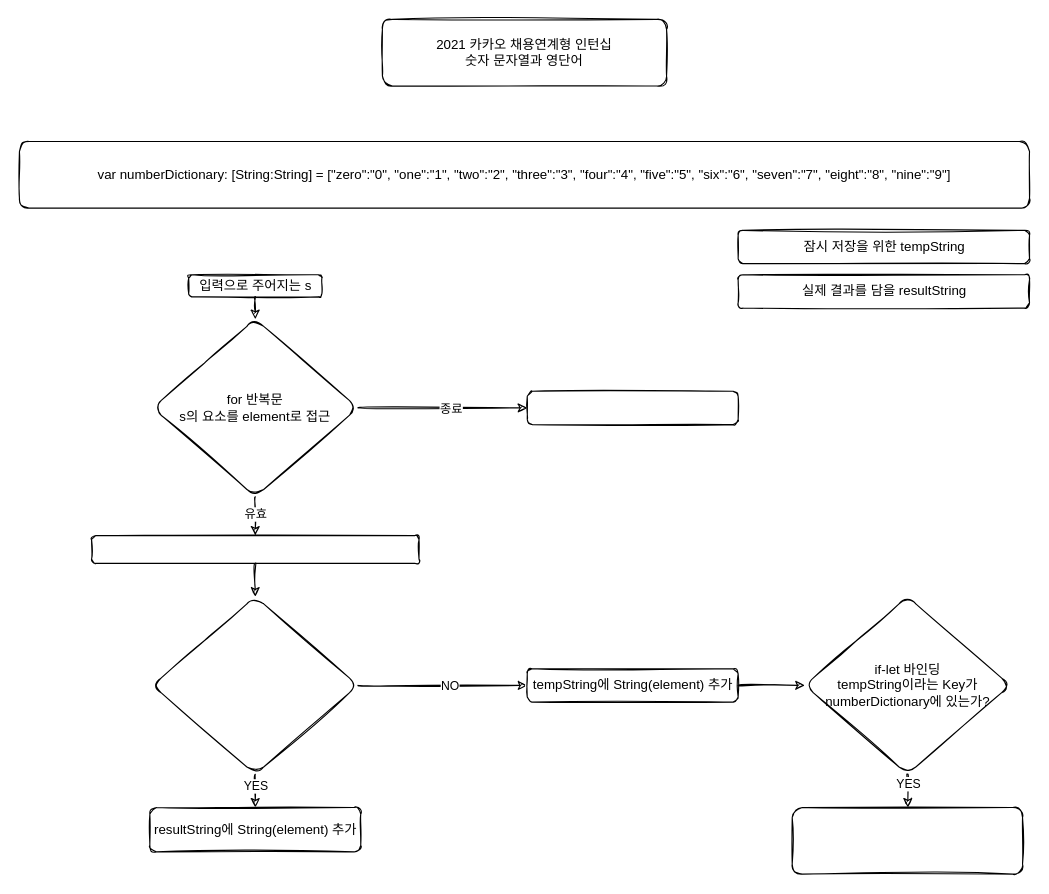
The diagram is 1049 pixels wide and 894 high, and some of its shapes have lost their labels. The shapes that lost their labels are listed below. From the top down, each one's centre as x and y in pixels, then its label:
At point (632, 407): "resultString을 강제언래핑".
At point (254, 548): "옵셔널 바인딩을 통해 element.asciiValue의 값을 가져옴".
At point (255, 685): "if - else 조건문 해당 아스키 코드가 숫자 범위인지?".
At point (907, 840): "resultString에 키의 밸류를 추가 및 tempString을 빈 문자열로 설정".
